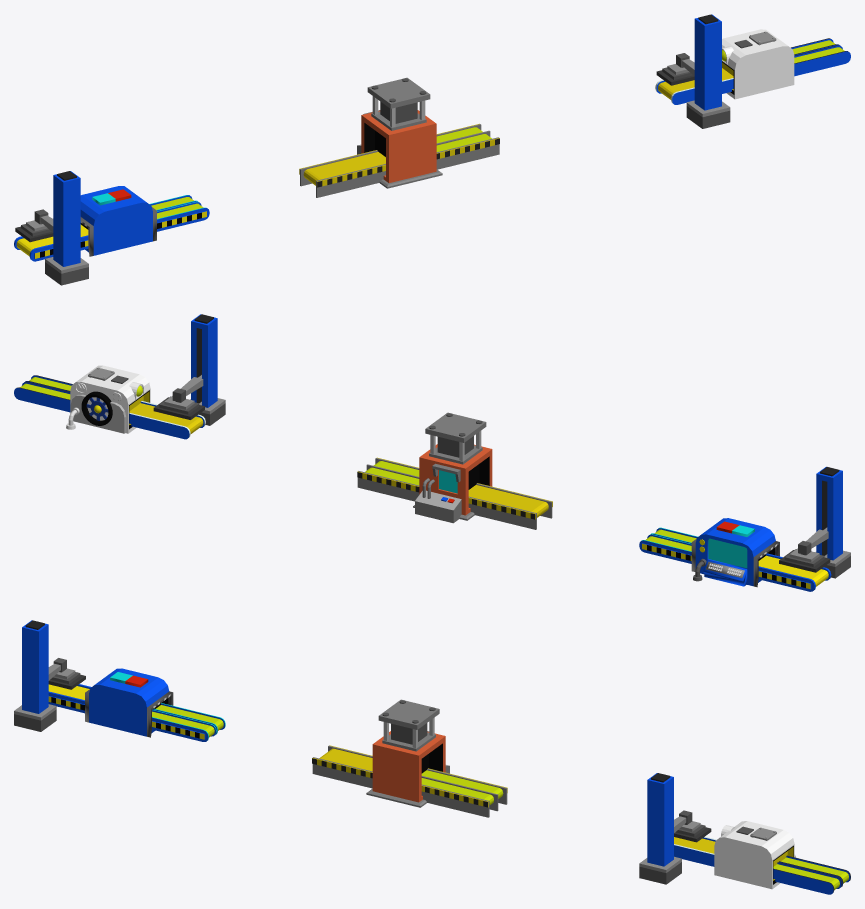
The model's file is Press.fbx.
The picture shows the model from 3 angles, top to bottom: view 1: azimuth 30°, elevation 25°; view 2: azimuth 150°, elevation 25°; view 3: azimuth 330°, elevation 25°; orthographic projection. The views are drawn at different scales.
Visible parts, largest first — view 1: Cube.008, HeadMachine, HeadMachine.001, Cube.001, Cube, Cube.009, line.007, HeadMachineOutorIn.001, HeadMachineOutorIn; view 2: Cube.008, HeadMachine, HeadMachine.001, Cube.001, Cube, Cube.009, line.007, HeadMachineOutorIn, HeadMachineOutorIn.002, line.004, line, Cube.005 (+1 smaller); view 3: Cube.008, HeadMachine, HeadMachine.001, Cube.001, Cube, Cube.009, HeadMachineOutorIn.001, line.007, line.008, HeadMachineOutorIn, line.006.
Part boxes in pixels (x1,y1,x2,y2): Cube.008: (299, 110, 499, 197); HeadMachine: (14, 186, 209, 261); HeadMachine.001: (722, 29, 794, 99); Cube.001: (686, 14, 730, 128); Cube: (45, 171, 88, 285); Cube.009: (367, 77, 430, 127); line.007: (303, 152, 385, 185); HeadMachineOutorIn.001: (794, 45, 850, 76); HeadMachineOutorIn: (655, 78, 733, 104); Cube.008: (357, 444, 552, 529); HeadMachine: (639, 518, 831, 591); HeadMachine.001: (66, 365, 150, 433); Cube.001: (190, 314, 225, 425); Cube: (815, 466, 850, 578); Cube.009: (425, 412, 486, 461); line.007: (468, 485, 548, 517); HeadMachineOutorIn: (129, 401, 205, 439); HeadMachineOutorIn.002: (14, 382, 70, 412); line.004: (129, 403, 203, 433); line: (758, 555, 828, 586); Cube.005: (164, 375, 203, 409); Cube.008: (312, 731, 507, 817); HeadMachine: (48, 668, 225, 741); HeadMachine.001: (714, 821, 795, 889); Cube.001: (639, 773, 681, 884); Cube: (14, 620, 56, 731); Cube.009: (378, 699, 439, 747); HeadMachineOutorIn.001: (773, 862, 841, 894); line.007: (319, 748, 372, 771); line.008: (421, 770, 503, 798); HeadMachineOutorIn: (674, 836, 716, 866); line.006: (421, 778, 493, 804).
Size of the model in its own units: 4136 by 489 by 491.
